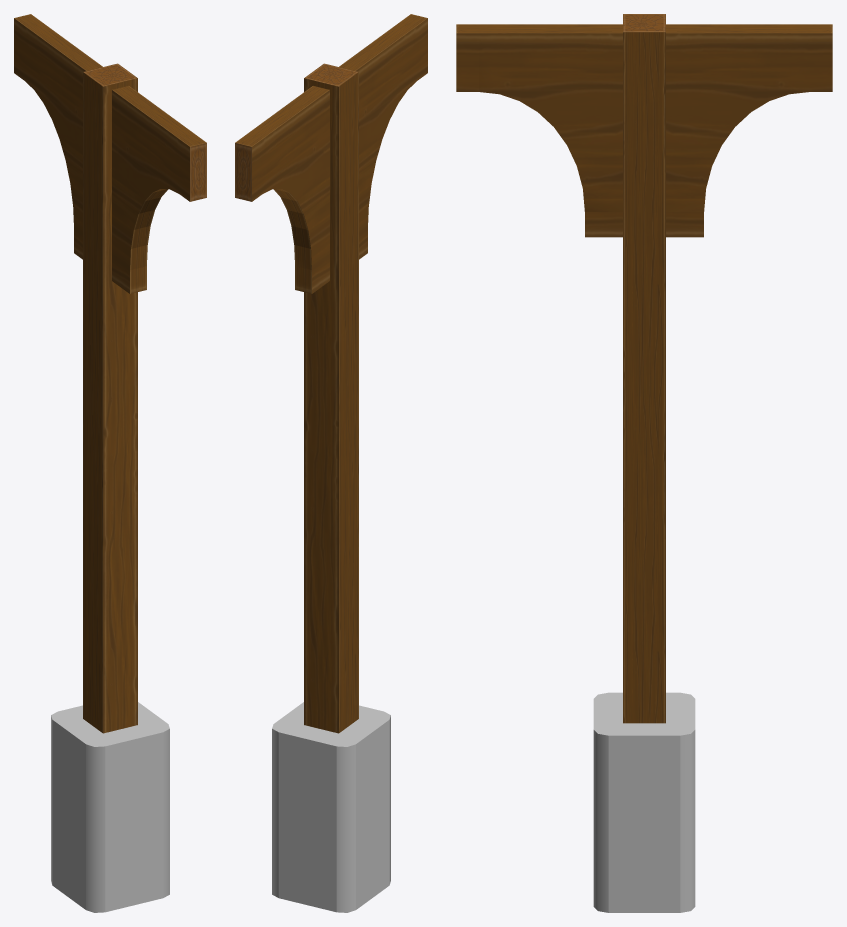
File: SM_Pillar_Exterior_01_Straight.fbx
3 renders of one model, left to right at view 1: azimuth 30°, elevation 25°; view 2: azimuth 150°, elevation 25°; view 3: azimuth 270°, elevation 25°, orthographic. The views are drawn at different scales.
Parts seen in each view (by area): view 1: SM_Pillar_Exterior_01_Straight; view 2: SM_Pillar_Exterior_01_Straight; view 3: SM_Pillar_Exterior_01_Straight.
Boxes of the visible parts, box(x1,y1,x2,y2) form: SM_Pillar_Exterior_01_Straight: box(14, 14, 206, 912); SM_Pillar_Exterior_01_Straight: box(235, 14, 427, 912); SM_Pillar_Exterior_01_Straight: box(456, 14, 832, 912).
Size of the model in its own units: 0.5203 by 4.9 by 1.92.
